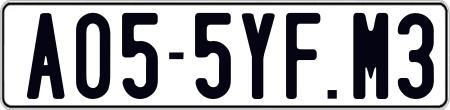0: (76, 13, 114, 105)
3: (395, 13, 433, 102)
5: (122, 13, 163, 105), (195, 11, 231, 101)
A: (25, 12, 63, 100)
F: (286, 12, 325, 103)
M: (352, 12, 391, 102)
Y: (240, 13, 279, 105)
